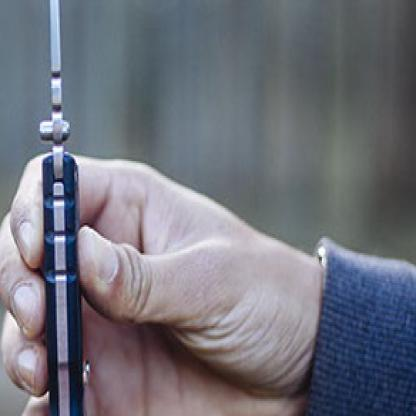knife: (0, 0, 104, 414)
